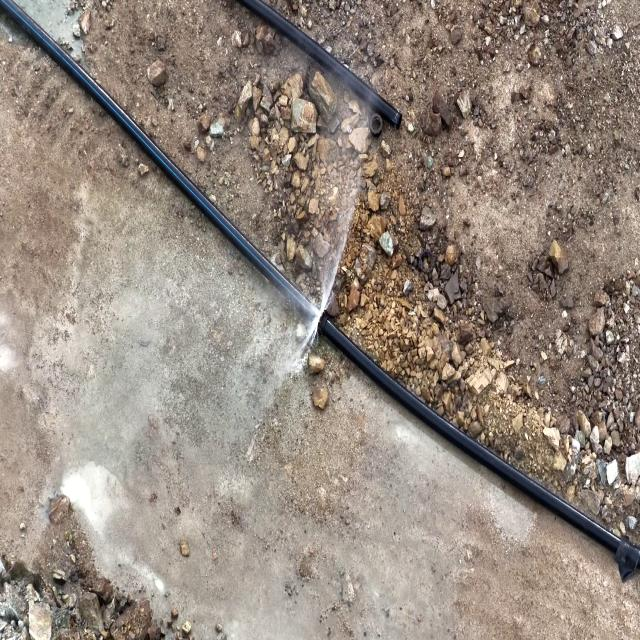leak: (268, 152, 369, 391)
